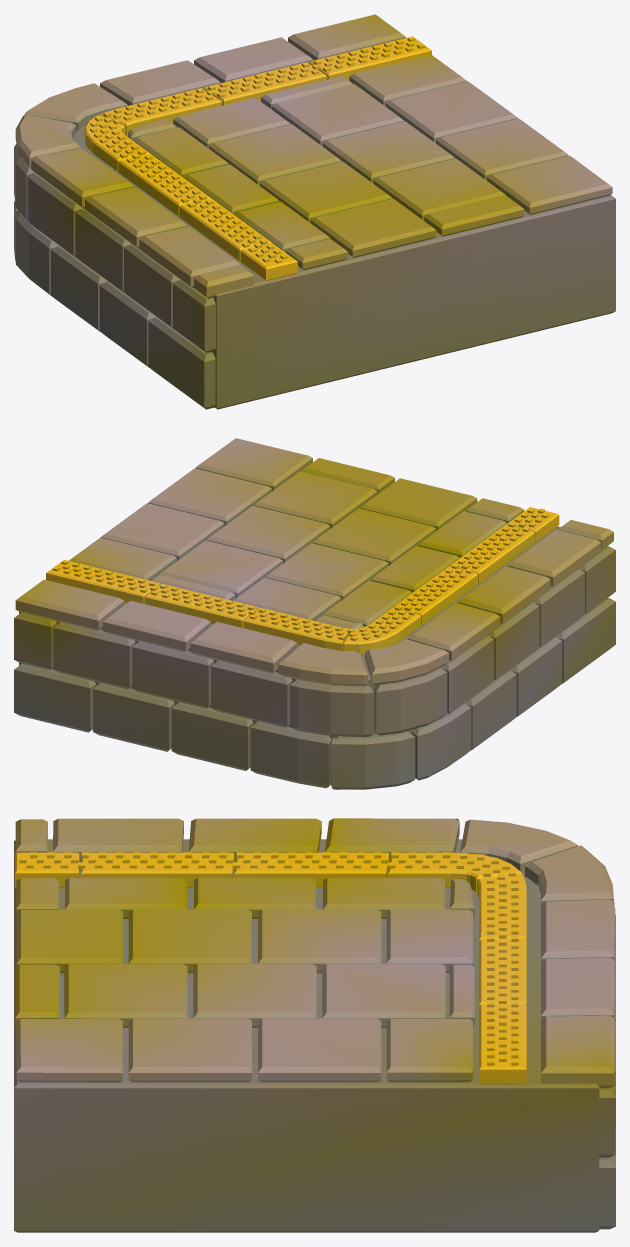
File: Platform_Corner_Start.glb
The picture shows the model from 3 angles, top to bottom: view 1: azimuth 30°, elevation 25°; view 2: azimuth 150°, elevation 25°; view 3: azimuth 270°, elevation 25°; orthographic projection. The views are drawn at different scales.
Parts seen in each view (by area): view 1: Platform_Corner_Start; view 2: Platform_Corner_Start; view 3: Platform_Corner_Start.
Part boxes in pixels (x1=…): Platform_Corner_Start: x1=14, y1=14, x2=615, y2=409; Platform_Corner_Start: x1=14, y1=438, x2=615, y2=789; Platform_Corner_Start: x1=14, y1=818, x2=615, y2=1232.
Bounding box in the file's own units: 3.5 × 1.08 × 3.5.
